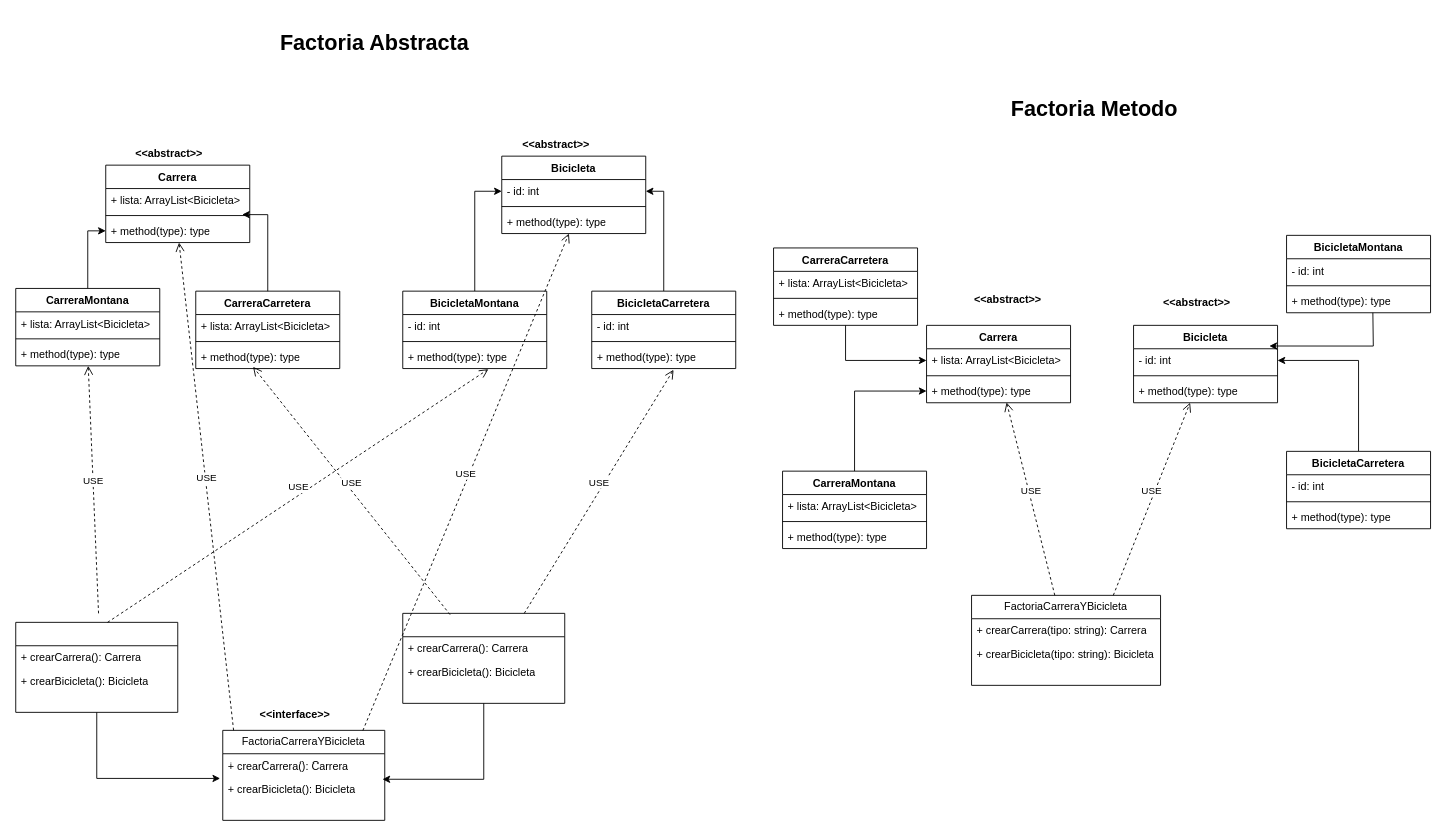
This 1446x838 diagram has some shape labels left out. The box of each missing label's shape, as (x1, y1, x2, y2) in pixels:
FactoriaCarretera: (402, 612, 565, 703)
FactoriaMontana: (15, 621, 178, 712)
